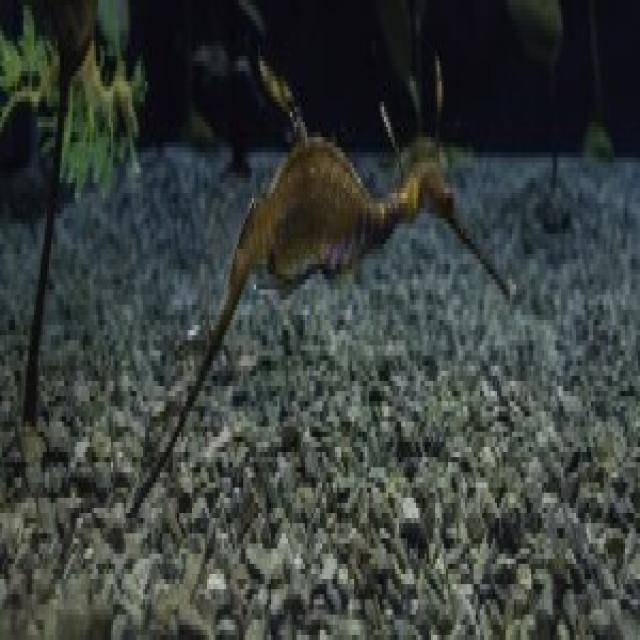Seahorse: (187, 33, 530, 319)
